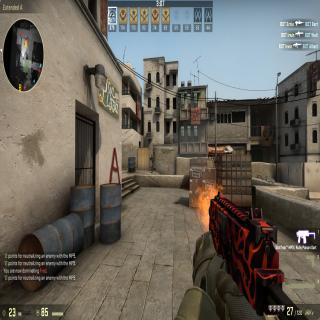T-Body: (149, 152, 155, 173)
T-Head: (150, 153, 153, 158)
